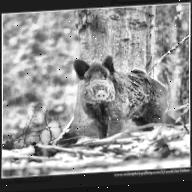boar: (71, 36, 171, 144)
